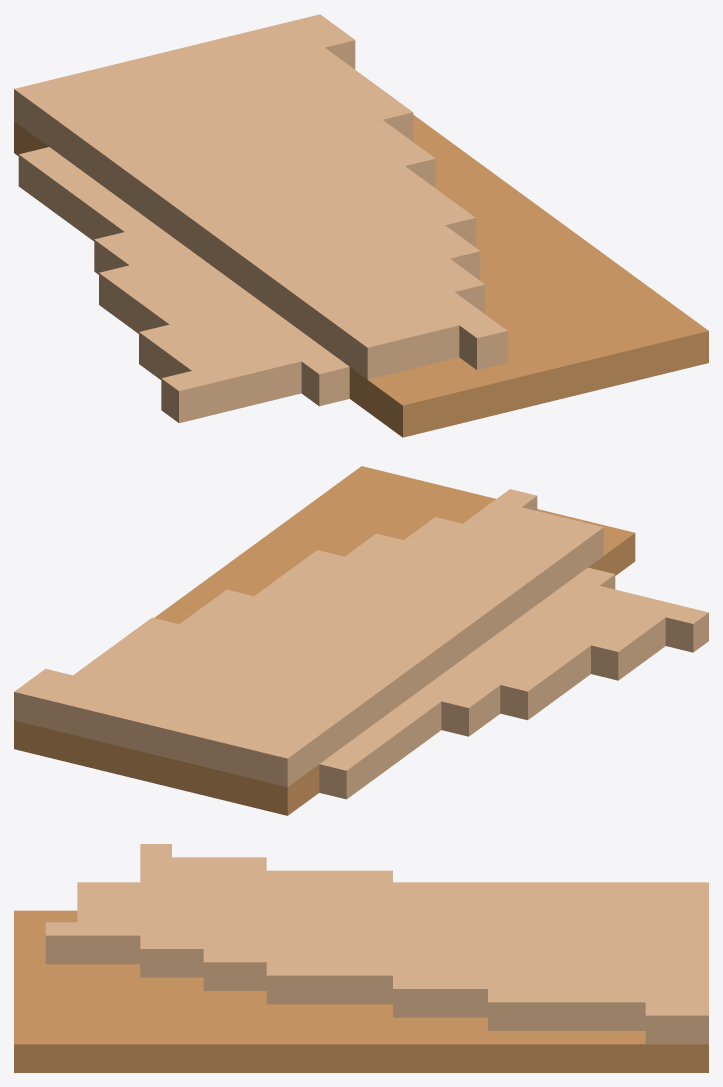
The model's file is asciugamano.gltf.
The picture shows the model from 3 angles, top to bottom: view 1: azimuth 30°, elevation 25°; view 2: azimuth 150°, elevation 25°; view 3: azimuth 270°, elevation 25°; orthographic projection. The views are drawn at different scales.
Visible parts, largest first — view 1: Layer.2, Layer.1; view 2: Layer.2, Layer.1; view 3: Layer.2, Layer.1.
Part boxes in pixels (x1,y1,x2,y2): Layer.2: [14, 14, 507, 423]; Layer.1: [14, 115, 708, 437]; Layer.2: [14, 489, 708, 799]; Layer.1: [14, 466, 635, 815]; Layer.2: [45, 844, 708, 1044]; Layer.1: [14, 910, 708, 1072].
Size of the model in its own units: 15 by 2 by 22.
Materials: 1 (1 with a texture image).
